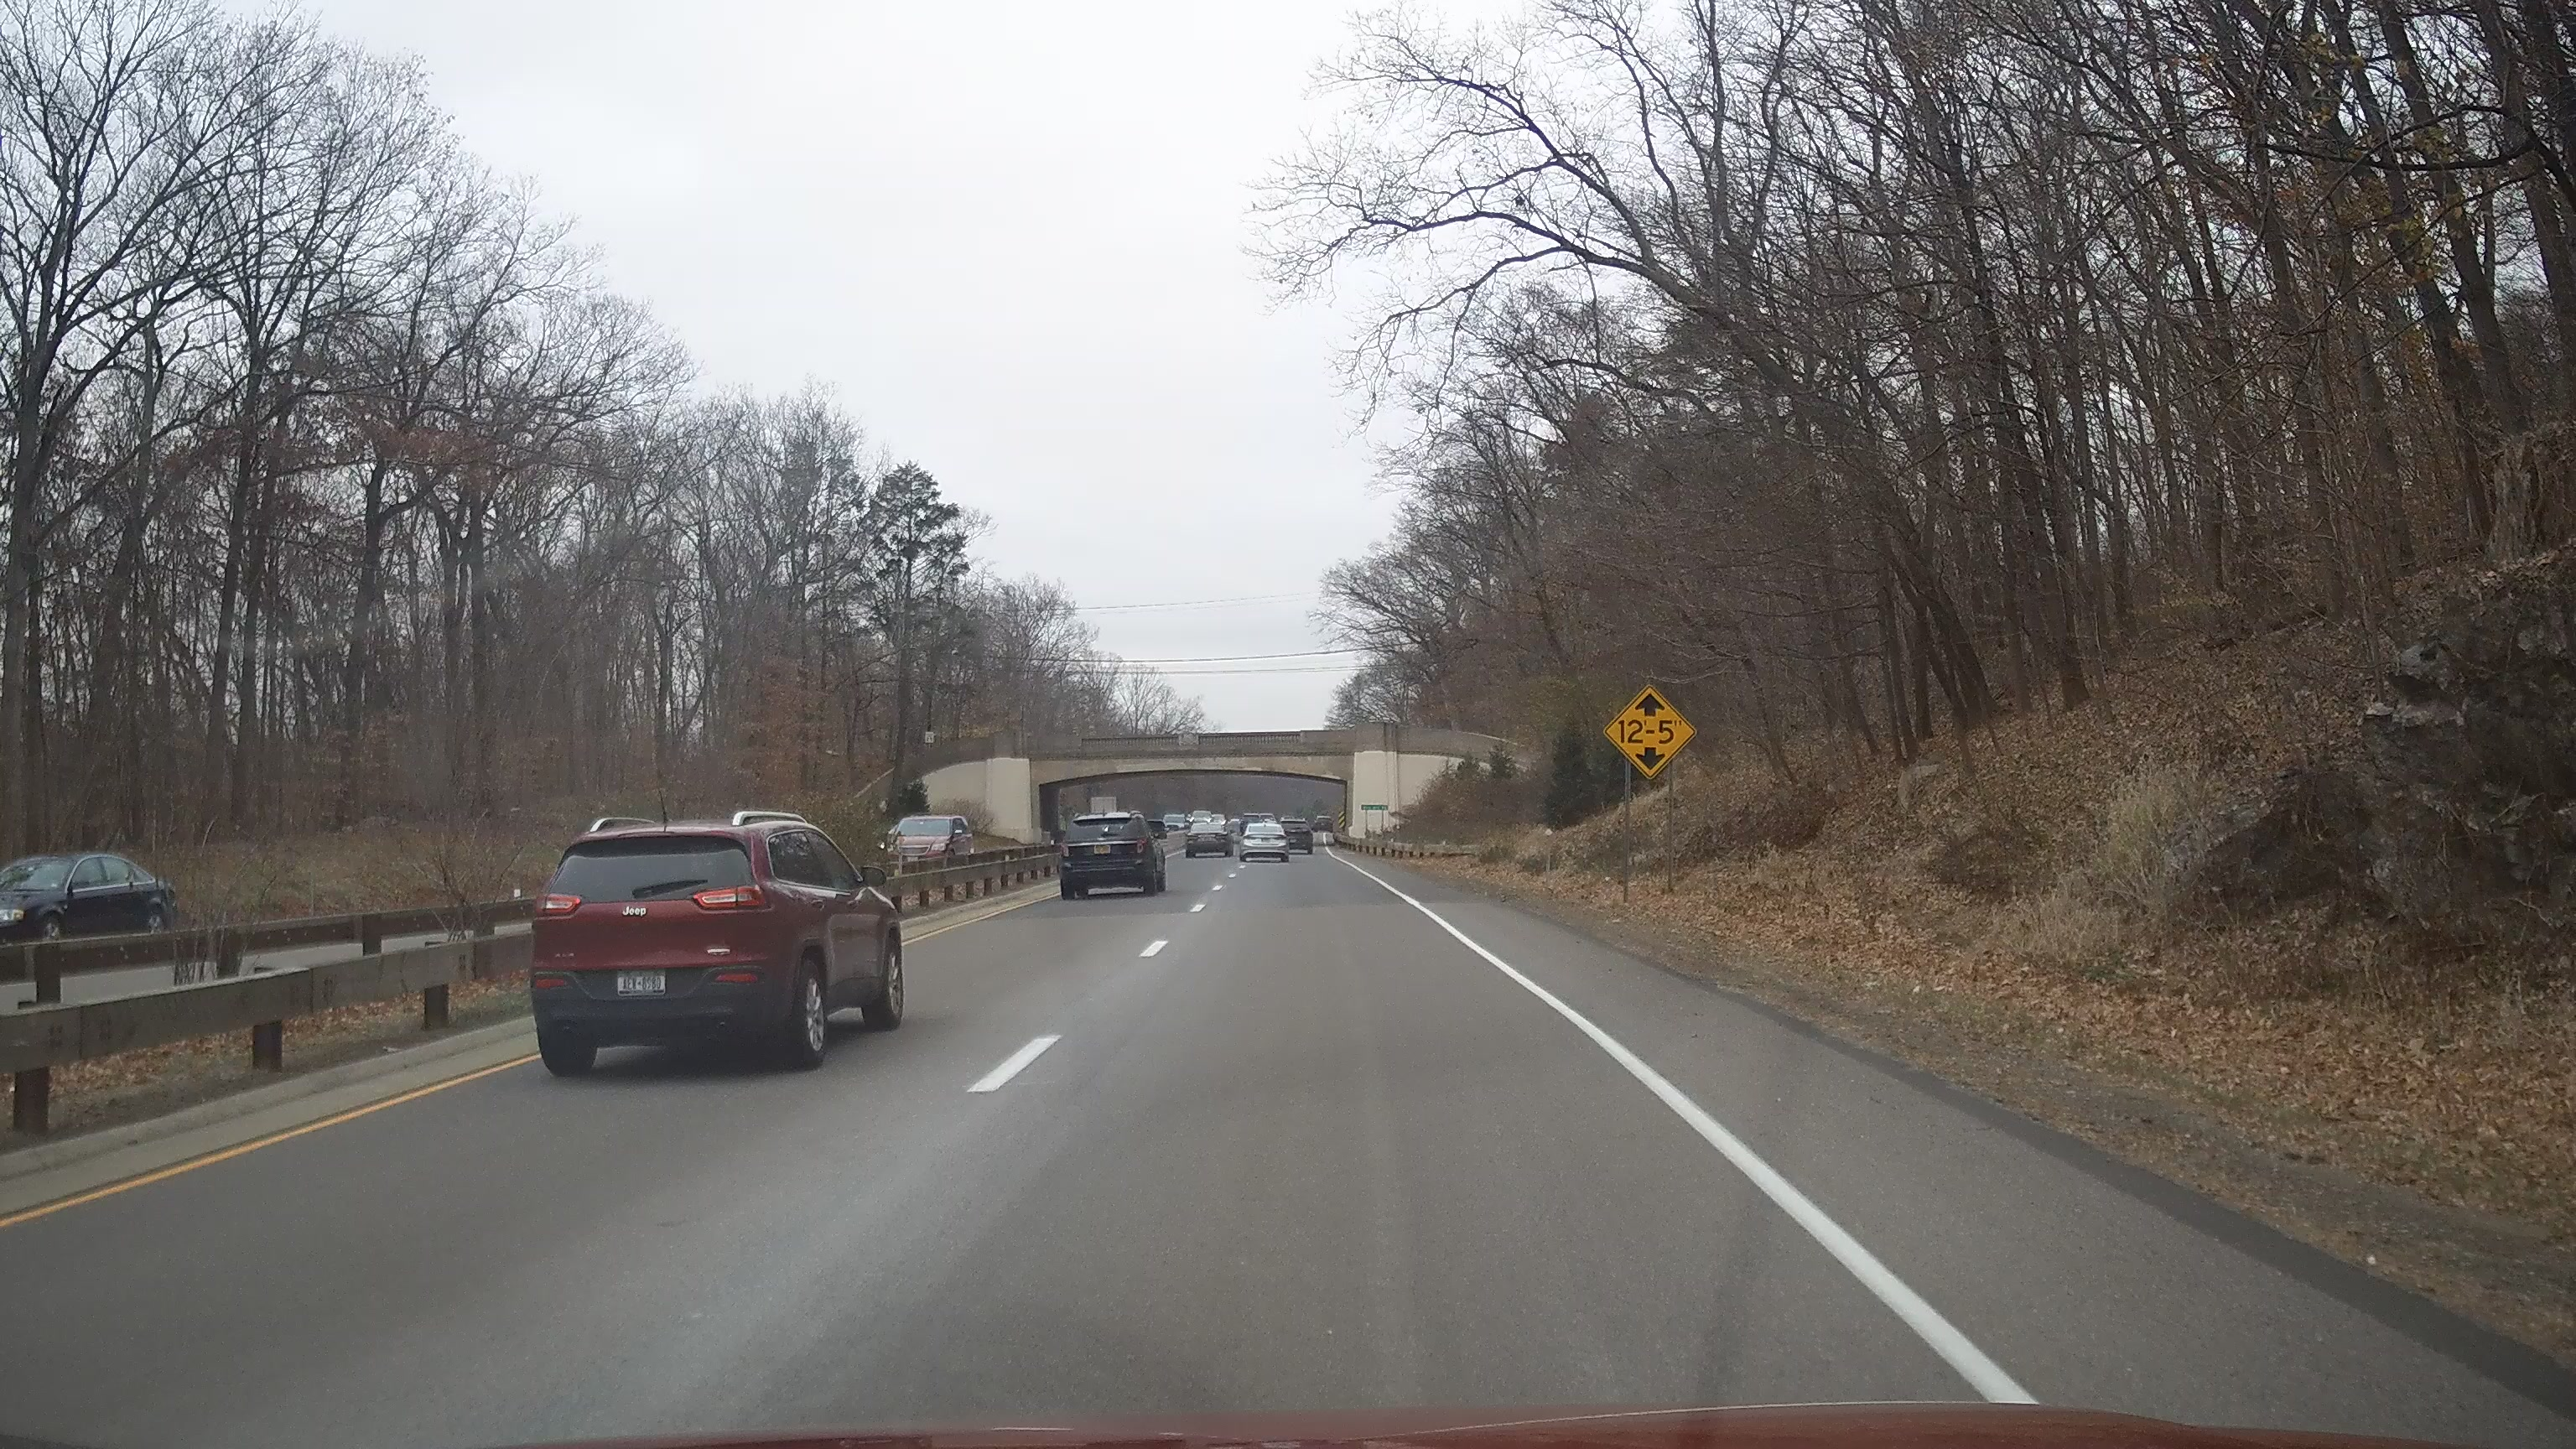low-clearance-sign: (1603, 683, 1697, 780)
